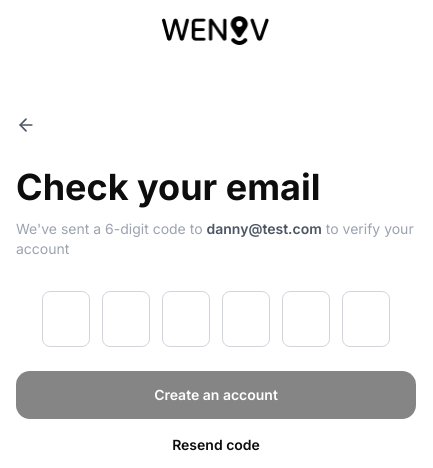
Test case: Email verification page › auto-advances focus to next input on digit entry
The image size is (433, 468).
Click the 1st field. click: (66, 319)
box: top-left (42, 291), bottom-right (90, 347)
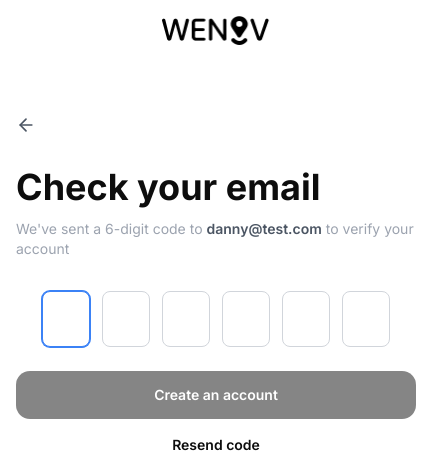
Type keys "1"
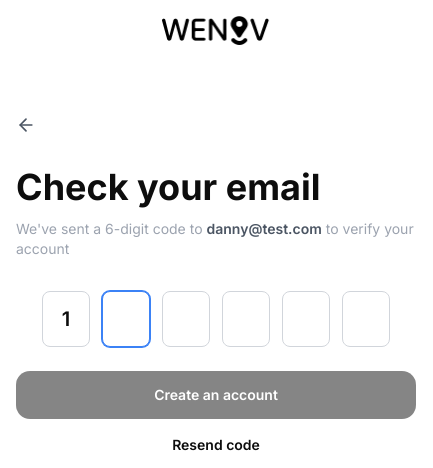
Now the 1st field holds "1", box top-left (42, 291), bottom-right (90, 347)
